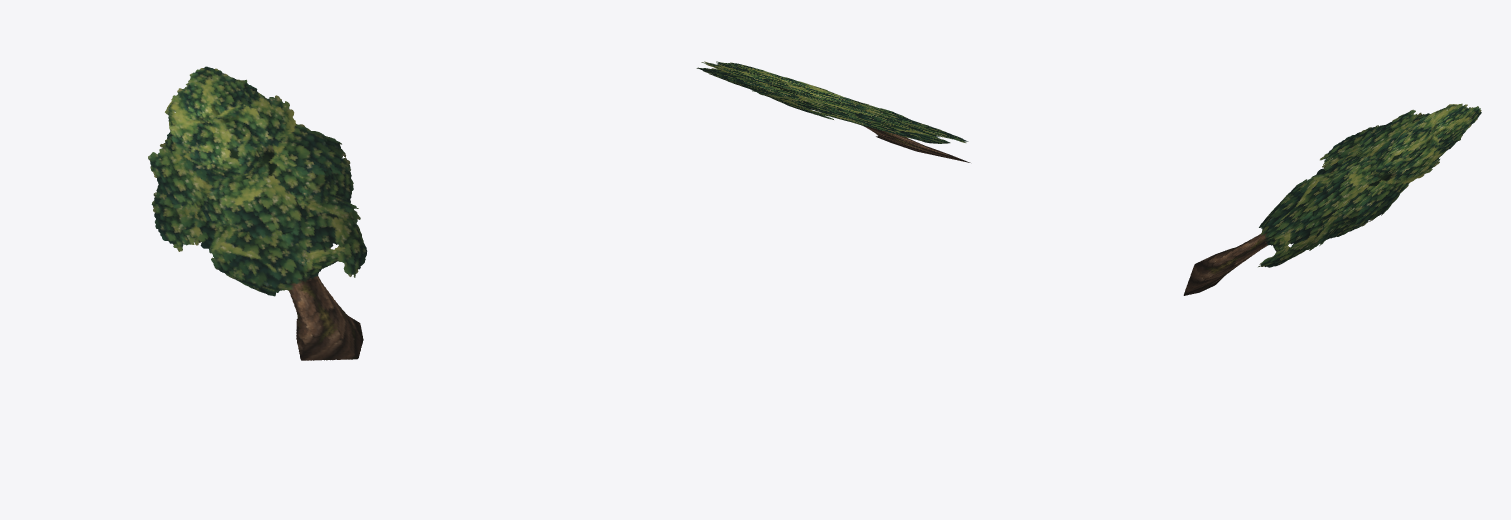
Rendered from tree_linden_lod2.glb.
3 views of the same model, side by side, from view 1: azimuth 30°, elevation 25°; view 2: azimuth 150°, elevation 25°; view 3: azimuth 270°, elevation 25° (orthographic). The views are drawn at different scales.
Visible parts, largest first — view 1: tree_linden_lod2; view 2: tree_linden_lod2; view 3: tree_linden_lod2.
Part boxes in pixels (box(x1,y1,x2,y2)): tree_linden_lod2: box(148, 66, 367, 360); tree_linden_lod2: box(696, 61, 970, 162); tree_linden_lod2: box(1183, 103, 1481, 295).
Bounding box in the file's own units: 4.47 × 5.17 × 3.71.
Materials: 1 (1 with a texture image).
